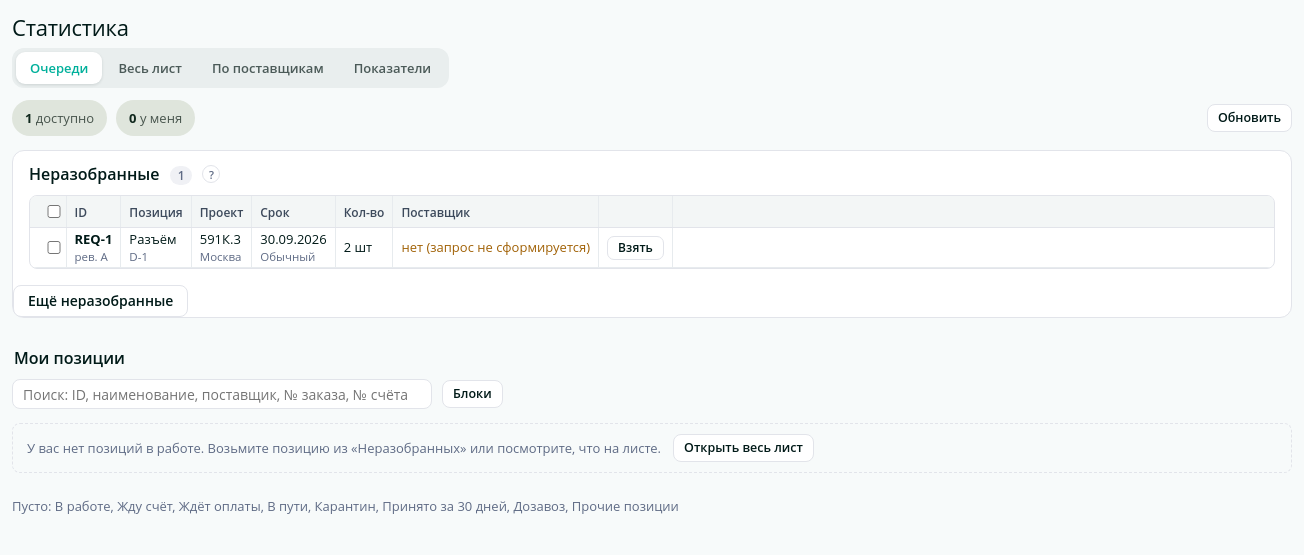
Scenario: blocks duplicate page loads and reports refresh failures
The image size is (1304, 555).
Click the button "Ещё неразобранные".
click(101, 302)  # box top-left (13, 286), bottom-right (188, 318)
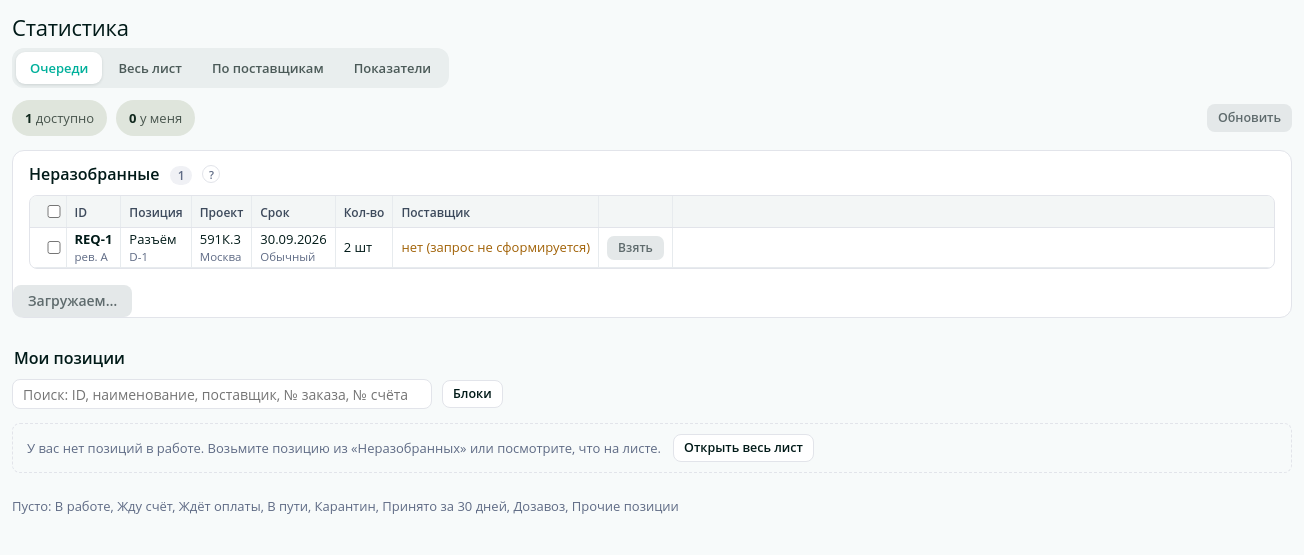
Click the button named "Ещё неразобранные".
click(73, 302)  # box top-left (13, 286), bottom-right (132, 318)
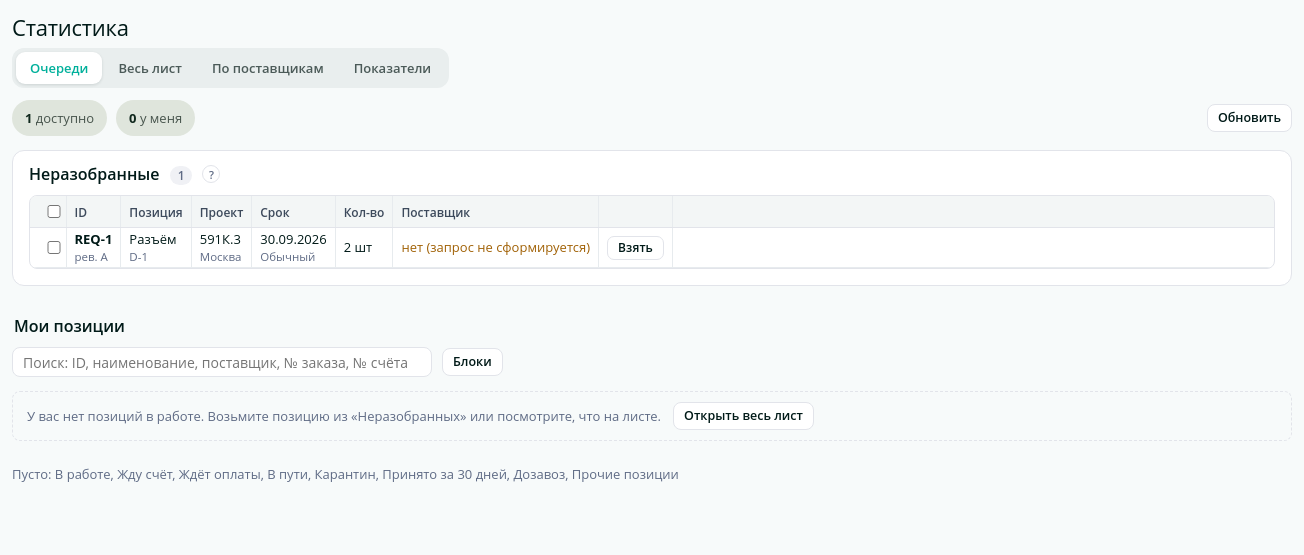
Expected: the text "REQ-1" is shown once, top-left (74, 231), bottom-right (112, 248)
Expected: the button "Загружаем…" is gone
Click the button "Обновить".
click(1249, 118)  # box top-left (1207, 104), bottom-right (1292, 132)
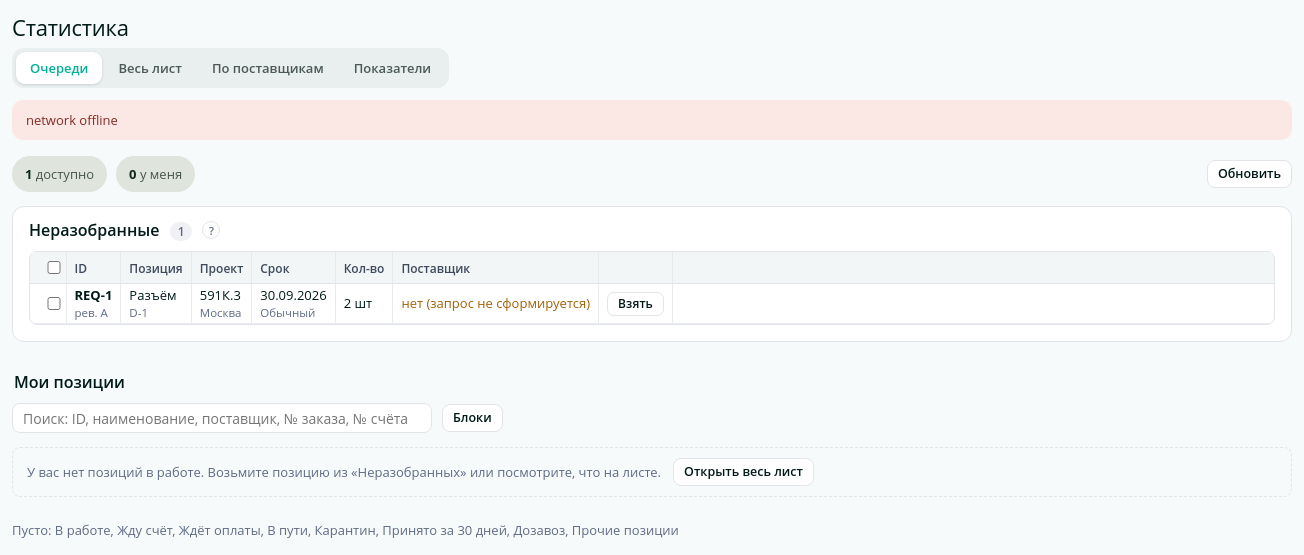
Expected: the message reads "network offline", top-left (26, 111), bottom-right (118, 129)
